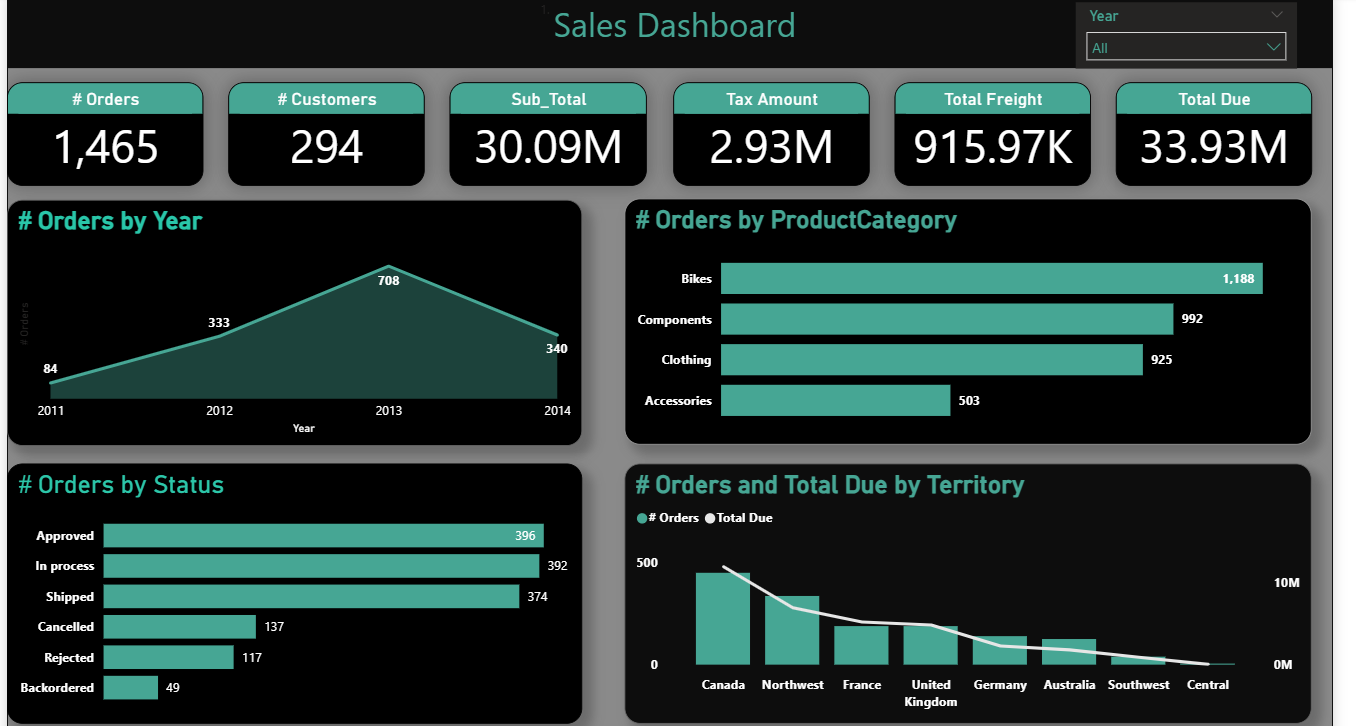

What the dashboard file says about the page in this screenshot:
{"tool":"powerbi","page":{"name":"Sales Performance Dashboard ","canvas":[1280,720],"ordinal":0},"visuals":[{"type":"card","title":"# Customers","fields":{"Values":["Measures Dax.# Customers"]},"box":[213.8,83.2,189.4,100.1],"z":0},{"type":"card","title":"# Orders ","fields":{"Values":["Measures Dax.# Orders"]},"box":[0,83.2,189.4,100.1],"z":1000},{"type":"card","title":"Tax Amount","fields":{"Values":["Measures Dax.Tax Amount"]},"box":[642.6,83.2,189.4,100.1],"z":2000},{"type":"card","title":"Total Freight ","fields":{"Values":["Measures Dax.Total Freight"]},"box":[856.3,83.2,189.4,100.1],"z":3000},{"type":"card","title":"Total Due ","fields":{"Values":["Measures Dax.Total Due"]},"box":[1070.1,83.2,189.4,100.1],"z":4000},{"type":"card","title":"Sub_Total","fields":{"Values":["Measures Dax.Total sub_Total"]},"box":[427.6,83.2,190.6,100.1],"z":5000},{"type":"textbox","box":[0,0,1280,70],"z":6000},{"type":"areaChart","fields":{"Category":["Dim_Date.OrderDate.Variation.Date Hierarchy.Year","Dim_Date.OrderDate.Variation.Date Hierarchy.Quarter","Dim_Date.OrderDate.Variation.Date Hierarchy.Month","Dim_Date.OrderDate.Variation.Date Hierarchy.Day"],"Y":["Measures Dax.# Orders"]},"box":[0,196.6,555,237.7],"z":7000},{"type":"clusteredBarChart","fields":{"Category":["Dim_Product.ProductCategory"],"Y":["Measures Dax.# Orders"]},"box":[596,195.4,663.5,237.7],"z":8000},{"type":"clusteredBarChart","fields":{"Y":["Measures Dax.# Orders"],"Category":["Dim_Status.Status"]},"box":[0,451.2,555,250.9],"z":9000},{"type":"lineClusteredColumnComboChart","fields":{"Category":["Dim_Territory.Territory"],"Y":["Measures Dax.# Orders"],"Y2":["Measures Dax.Total Due"]},"box":[596,451.2,663.5,250.9],"z":10000},{"type":"slicer","fields":{"Values":["Dim_Date.OrderDate.Variation.Date Hierarchy.Year"]},"box":[1031.5,6,213.5,63.9],"z":10001}]}

Visuals, with their boxes in screenshot pixels (x1, y1, x2, y2):
"# Customers" card: <bbox>224, 79, 420, 182</bbox>
"# Orders " card: <bbox>4, 79, 199, 182</bbox>
"Tax Amount" card: <bbox>667, 79, 863, 182</bbox>
"Total Freight " card: <bbox>888, 79, 1084, 182</bbox>
"Total Due " card: <bbox>1109, 79, 1305, 182</bbox>
"Sub_Total" card: <bbox>445, 79, 642, 182</bbox>
textbox: <bbox>4, 0, 1326, 65</bbox>
areaChart - Dim_Date.OrderDate.Variation.Date Hierarchy.Year x Dim_Date.OrderDate.Variation.Date Hierarchy.Quarter: <bbox>4, 196, 577, 442</bbox>
clusteredBarChart - Dim_Product.ProductCategory x Measures Dax.# Orders: <bbox>619, 195, 1305, 440</bbox>
clusteredBarChart - Measures Dax.# Orders x Dim_Status.Status: <bbox>4, 459, 577, 718</bbox>
lineClusteredColumnComboChart - Dim_Territory.Territory x Measures Dax.# Orders: <bbox>619, 459, 1305, 718</bbox>
slicer - Dim_Date.OrderDate.Variation.Date Hierarchy.Year: <bbox>1069, 0, 1290, 65</bbox>
